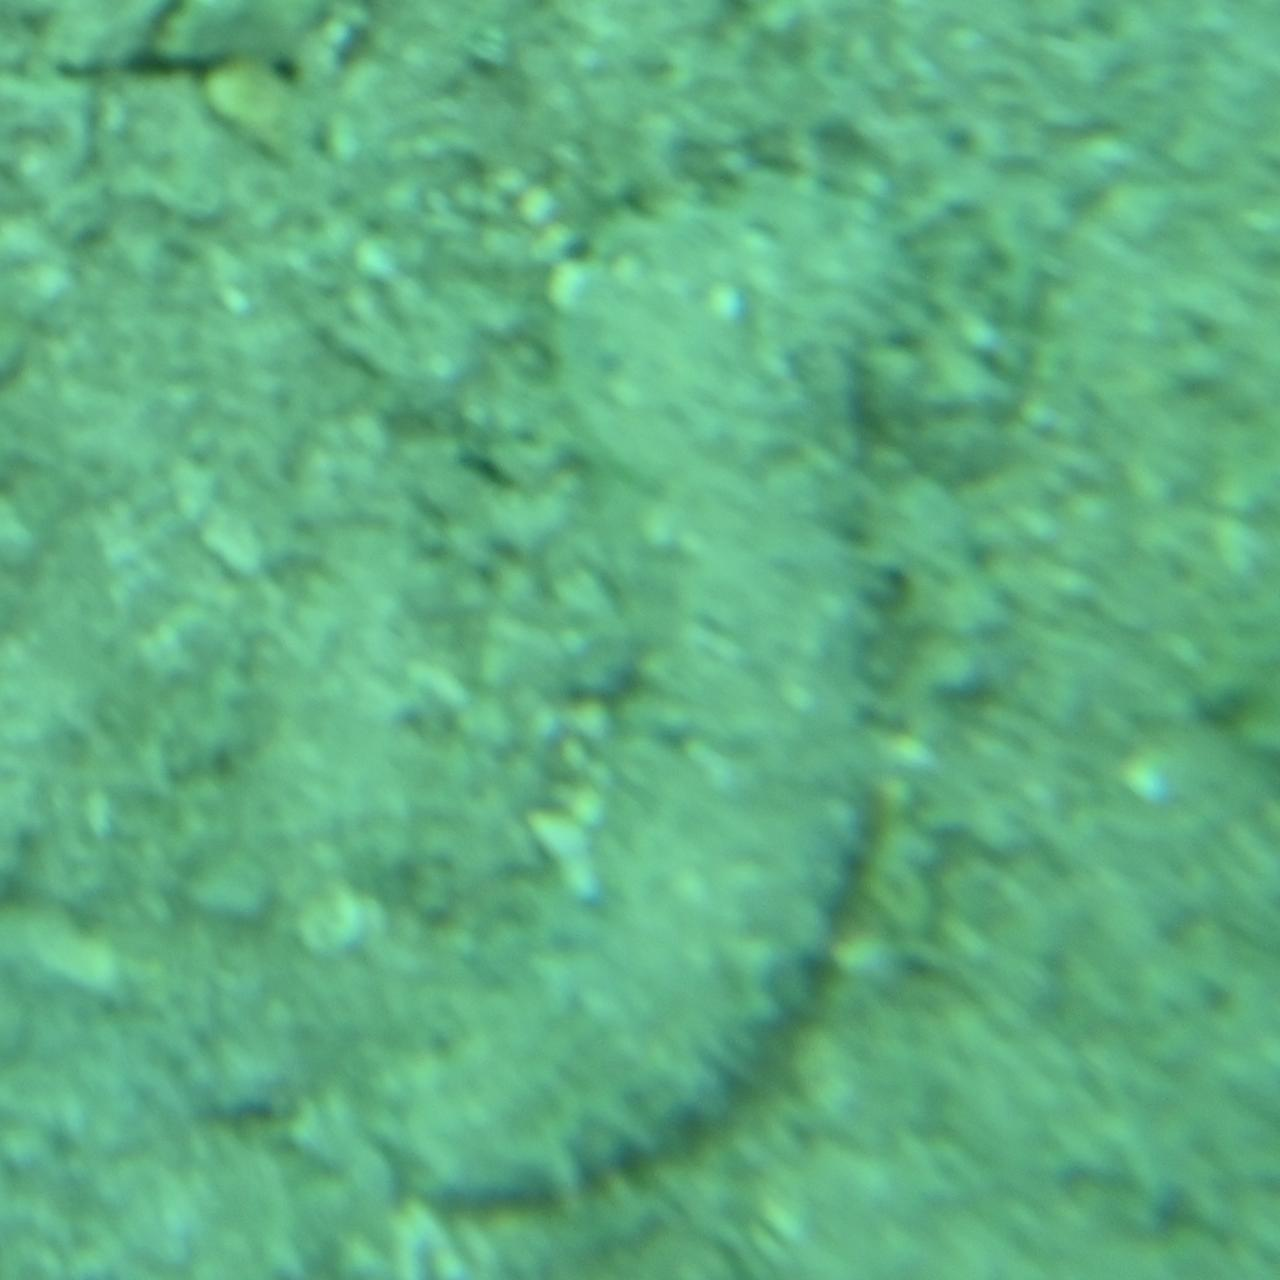Holothuria tubulosa: (364, 165, 916, 1205)
